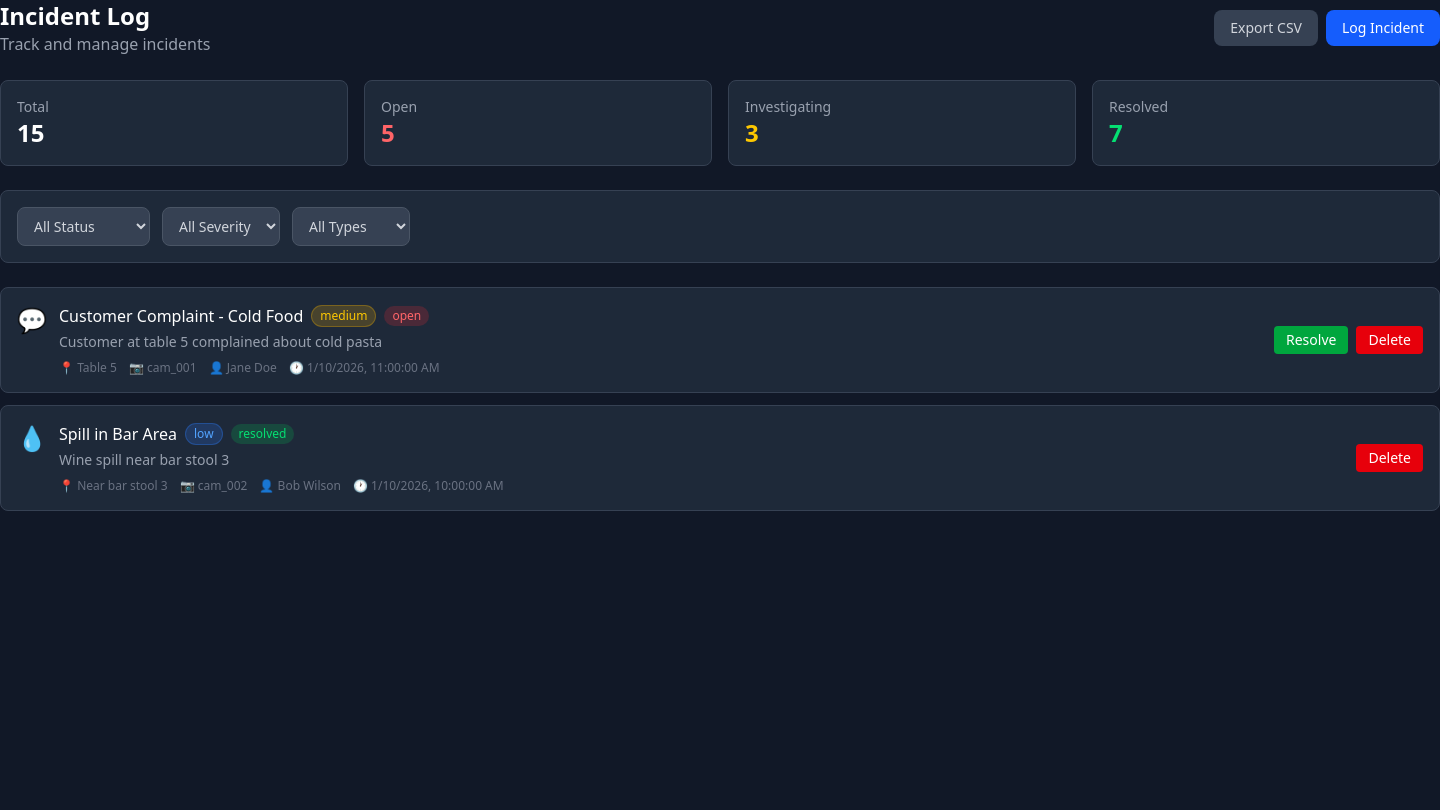
it: Incidents Page › opens create incident modal when clicking Log Incident
The image size is (1440, 810).
What coordinates should you click on to do the following:
click the button "Log Incident"
I would click on:
 (1383, 28)
Its box is [1326, 10, 1439, 46].
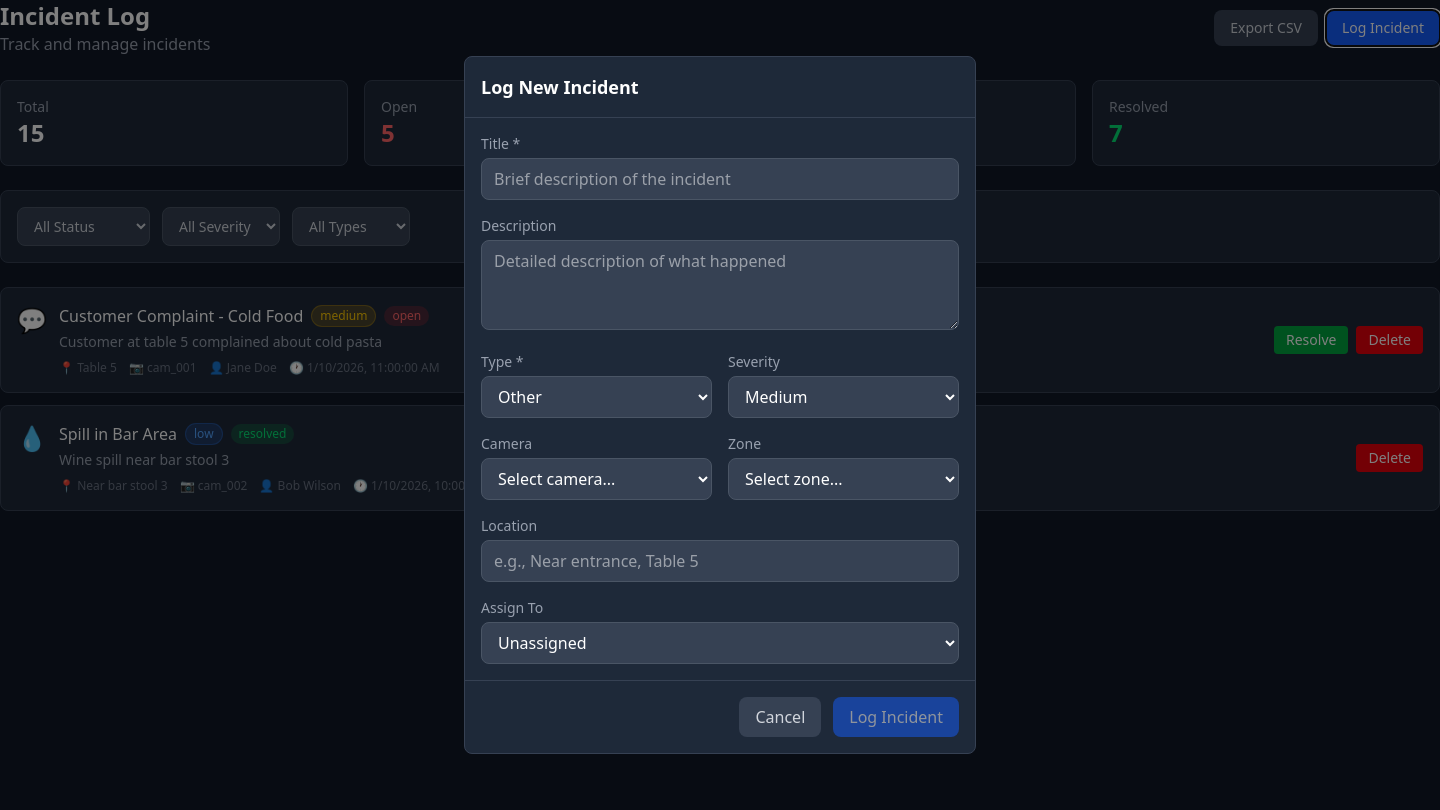
Expected: the heading "Log New Incident" is shown, [481, 75, 639, 99]
